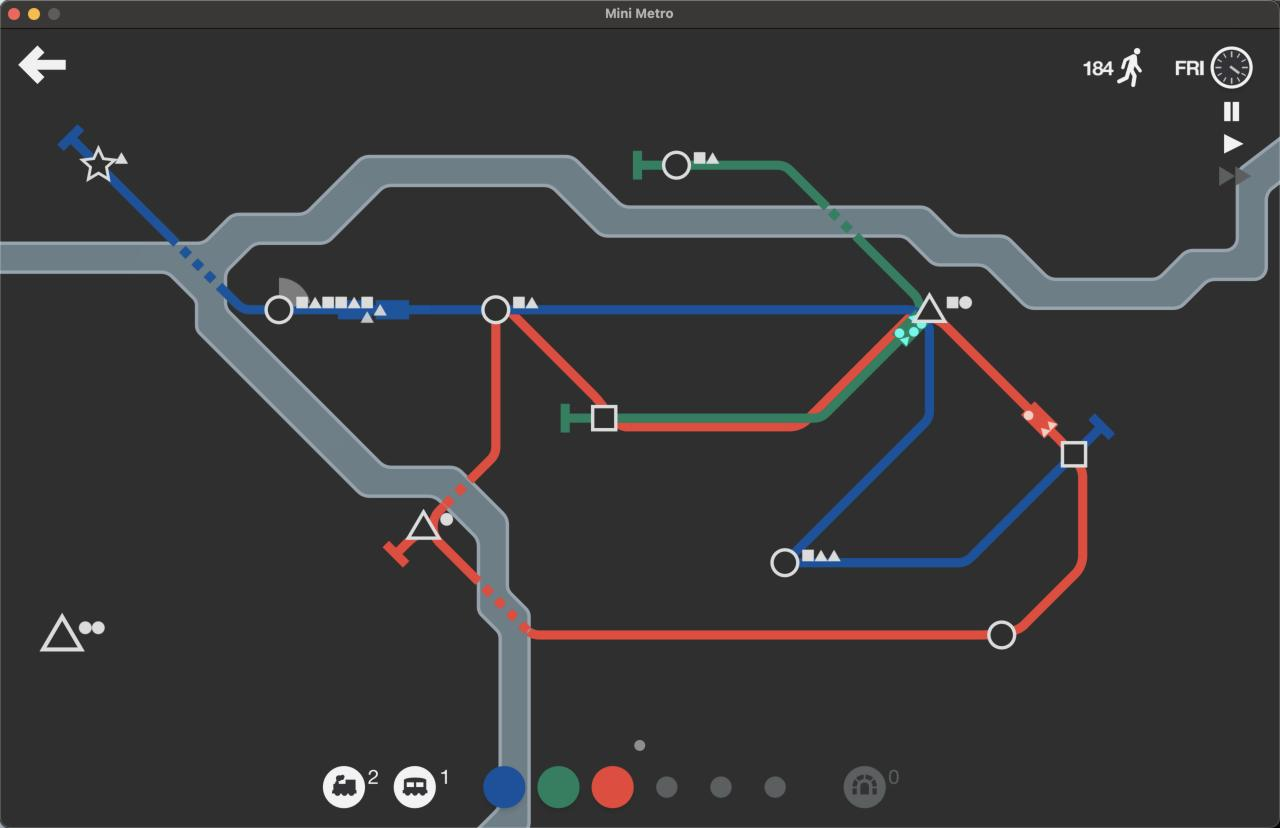CIRCLE: (481, 294, 512, 325), (263, 294, 294, 325), (769, 547, 799, 578), (987, 619, 1017, 650), (662, 150, 691, 180)
SQUARE: (590, 403, 618, 432), (1060, 441, 1088, 468)
STAR: (78, 144, 125, 182)
TRIANGLE: (38, 611, 88, 655), (405, 507, 443, 541), (912, 291, 949, 325)
